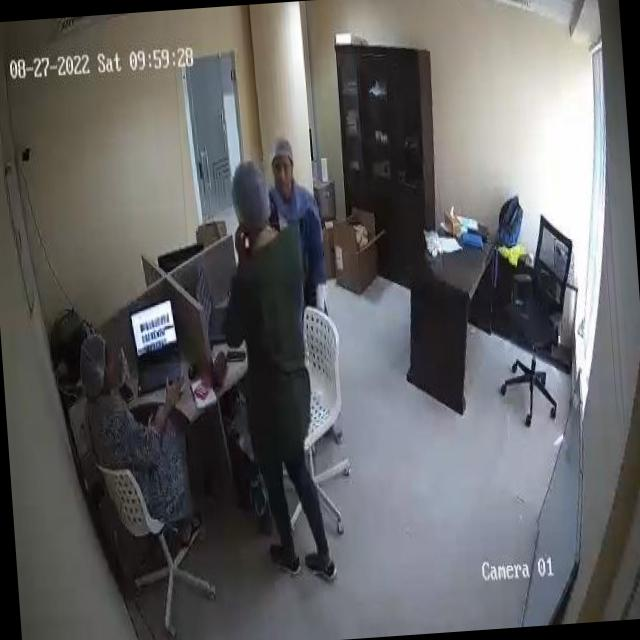hairnet: (230, 161, 274, 228), (78, 339, 108, 396), (268, 138, 293, 162)
